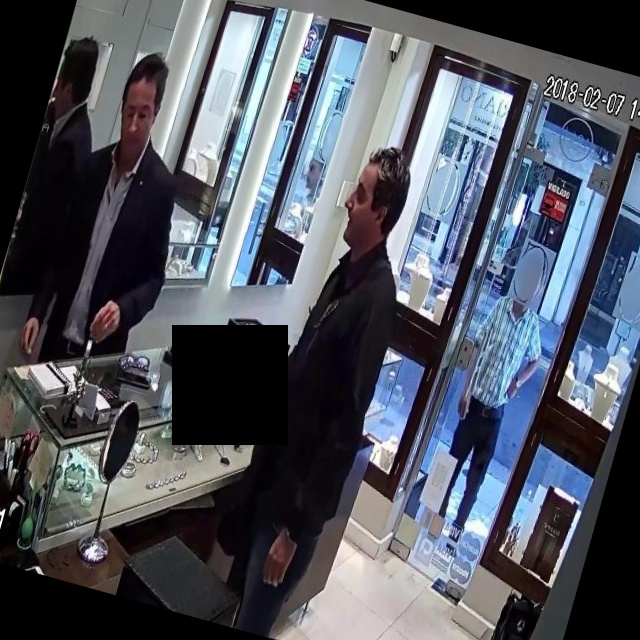gun: (220, 351, 293, 474)
